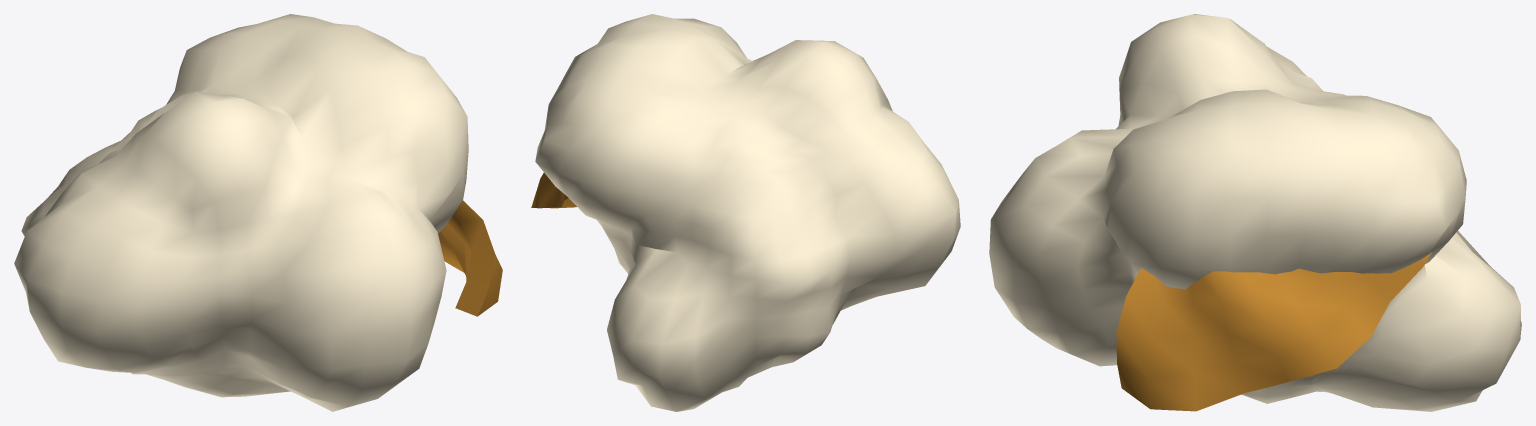
Rendered from debris_popcorn.glb.
3 views of the same model, side by side, from view 1: azimuth 30°, elevation 25°; view 2: azimuth 150°, elevation 25°; view 3: azimuth 270°, elevation 25° (orthographic). The views are drawn at different scales.
Parts seen in each view (by area): view 1: debris_popcorn; view 2: debris_popcorn; view 3: debris_popcorn.
Boxes of the visible parts, box(x1,y1,x2,y2) form: debris_popcorn: box(14, 14, 502, 411); debris_popcorn: box(531, 14, 960, 411); debris_popcorn: box(989, 14, 1521, 411).
Size of the model in its own units: 0.3485 by 0.2613 by 0.3449.
